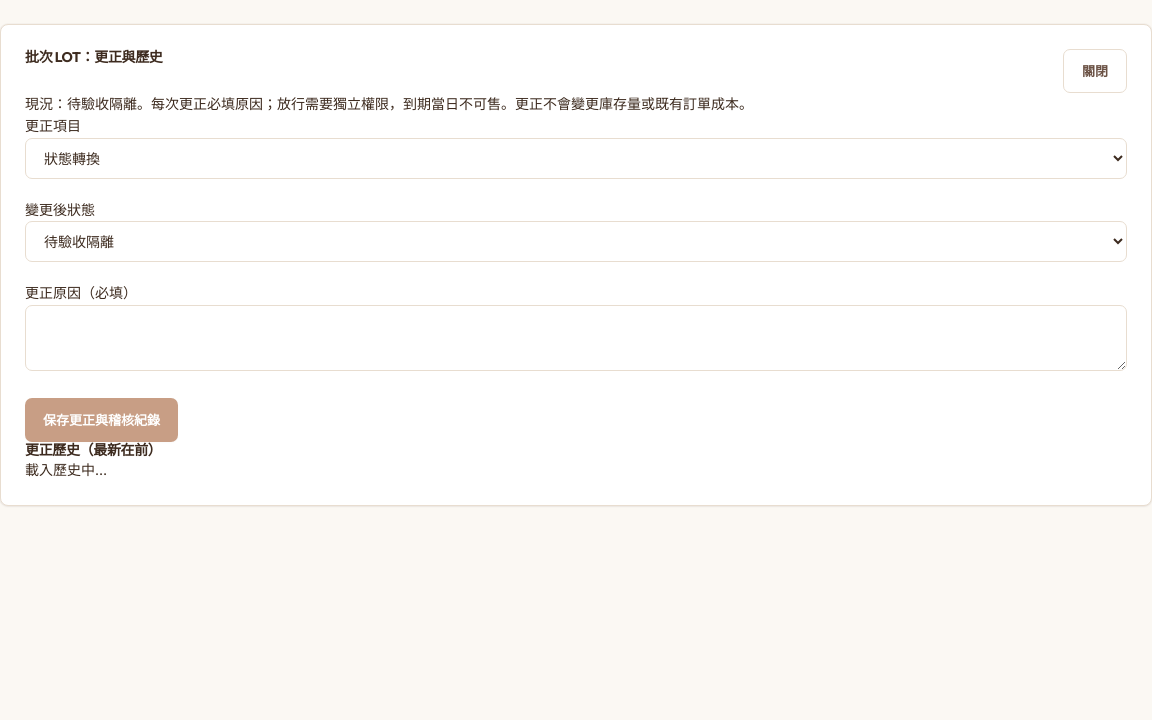
batch correction UI through real API clients › uses the dedicated status endpoint and a required reason
expect the button "保存更正與稽核紀錄" is disabled: met, box [25,398,178,442]
In the text box labelled "更正原因（必填）": (576, 338) [25,305,1127,371], type "  Verified invoice  "
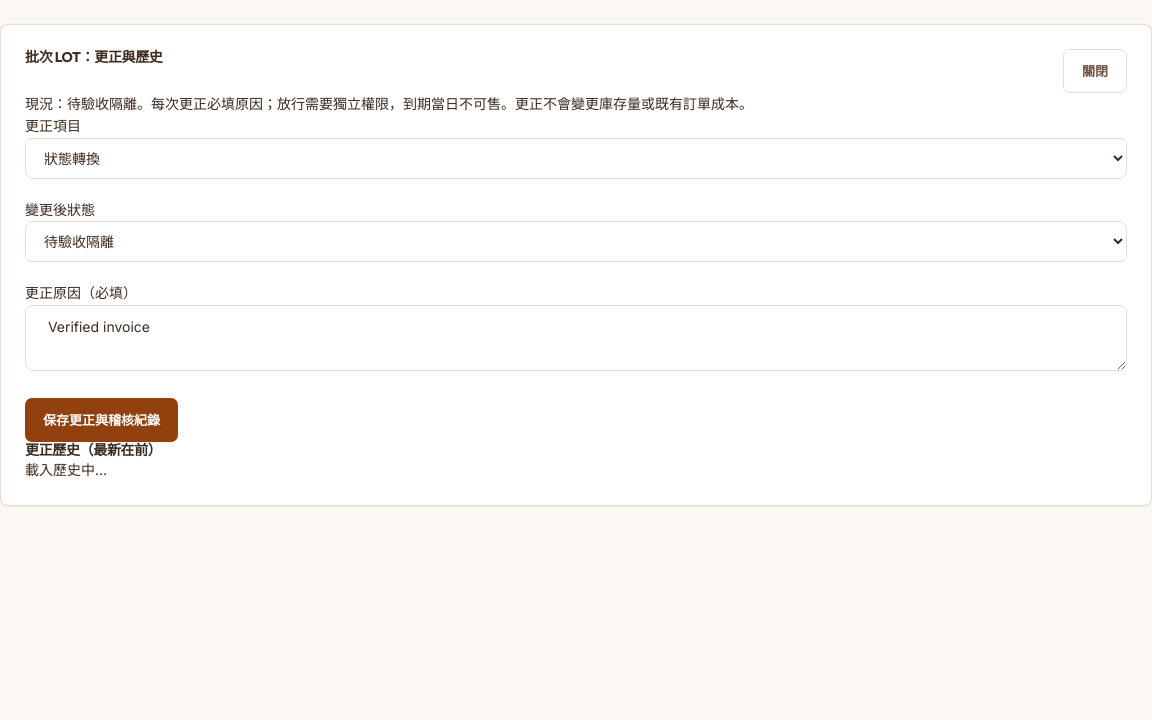
Select "已驗收可售（需獨立放行權限）" in the dropdown labelled "變更後狀態": (576, 242) [25,221,1127,262]
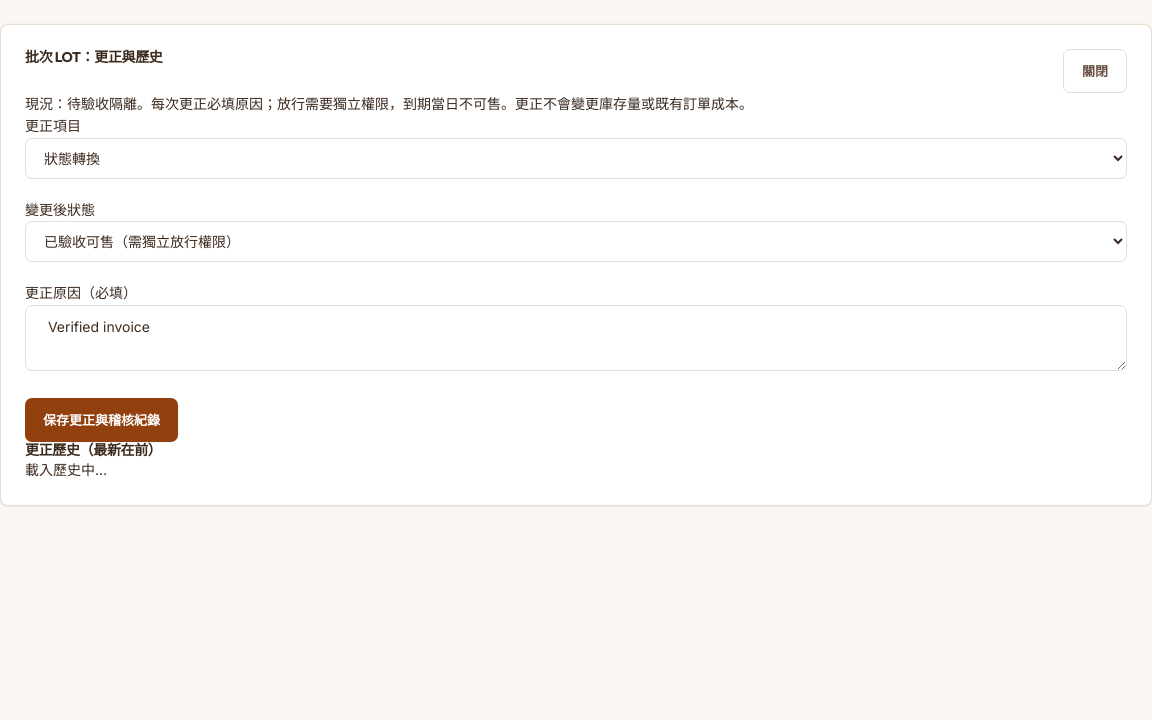
Click the button "保存更正與稽核紀錄": (102, 420) [25,398,178,442]
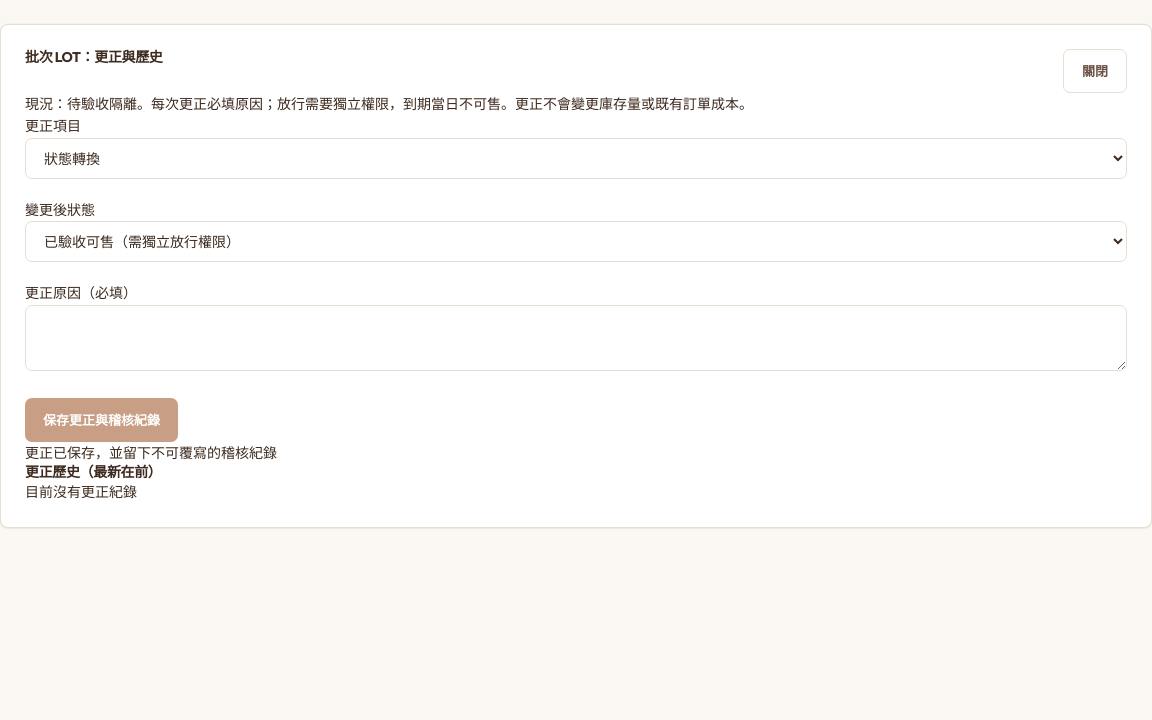
expect the text "更正已保存，並留下不可覆寫的稽核紀錄" is shown: met, box [25,444,277,461]
